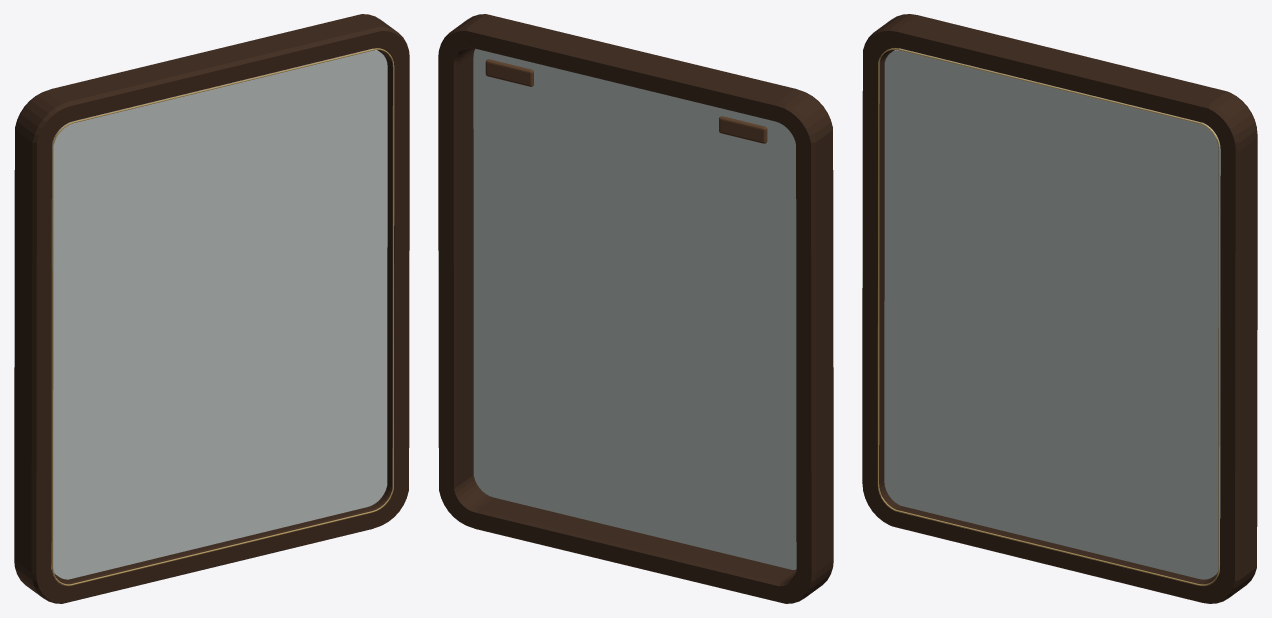
The model's file is restroom_wood_frame_mirror.fbx.
The picture shows the model from 3 angles, left to right: view 1: azimuth 30°, elevation 25°; view 2: azimuth 150°, elevation 25°; view 3: azimuth 330°, elevation 25°; orthographic projection.
Parts seen in each view (by area): view 1: restroom_wood_frame_mirror; view 2: restroom_wood_frame_mirror; view 3: restroom_wood_frame_mirror.
Boxes of the visible parts, bbox=[...] form: restroom_wood_frame_mirror: bbox=[14, 14, 409, 603]; restroom_wood_frame_mirror: bbox=[438, 14, 833, 603]; restroom_wood_frame_mirror: bbox=[862, 14, 1257, 603].
Size of the model in its own units: 0.6 by 0.76 by 0.0617.
